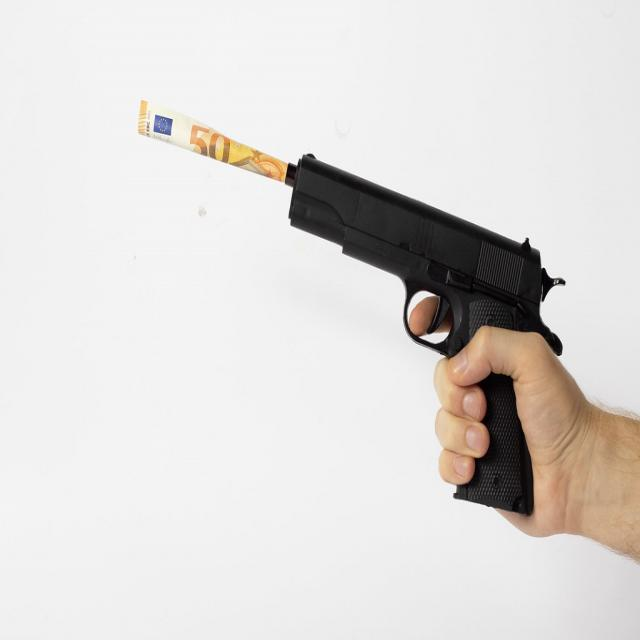gun: (290, 136, 562, 516)
